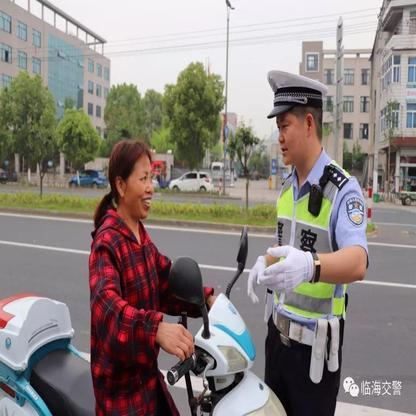target: (4, 138, 288, 414)
